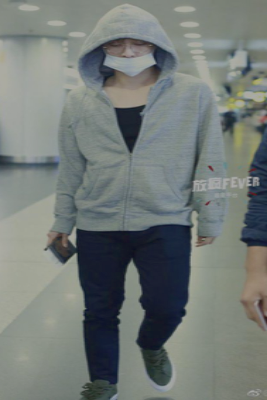mask_weared_incorrect: (101, 40, 158, 77)
